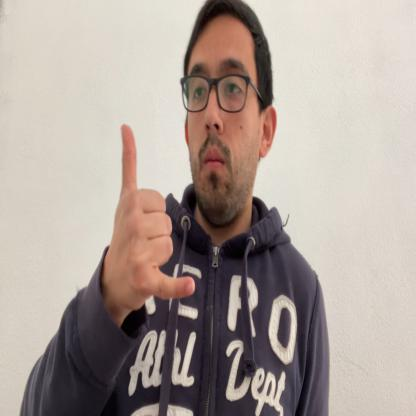Y: (112, 123, 196, 312)
